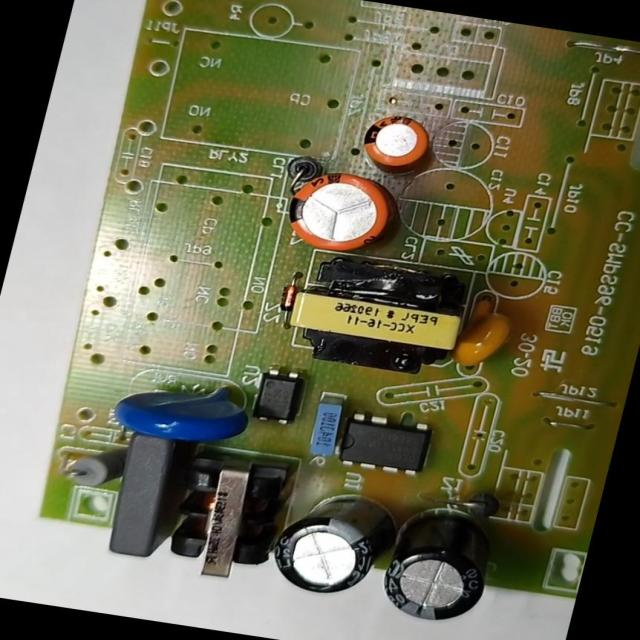Cap1: (274, 159, 402, 262)
Cap2: (347, 108, 440, 175)
Cap3: (262, 480, 400, 603)
Cap4: (366, 498, 506, 628)
MOSFET: (330, 405, 438, 482)
Mov: (104, 365, 258, 451)
Resistor: (56, 441, 126, 495)
Transformer: (273, 252, 481, 386), (151, 445, 294, 590)
